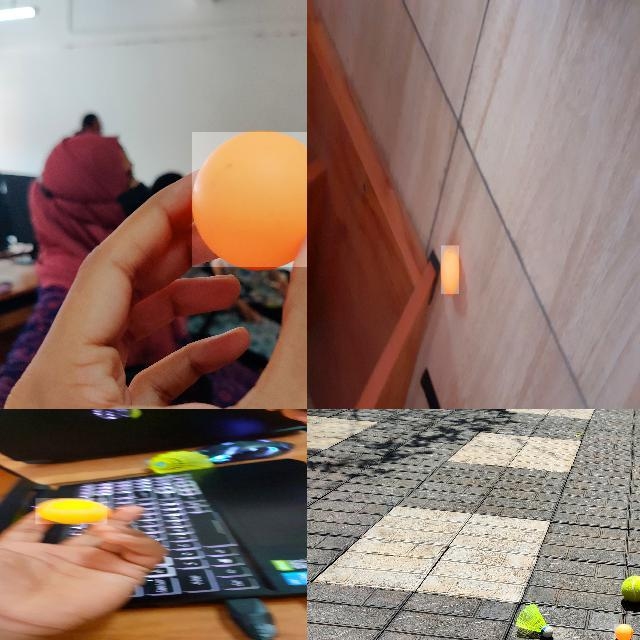ping-pong-ball: (191, 132, 306, 269), (36, 498, 108, 524), (440, 246, 460, 296), (614, 624, 633, 639)
